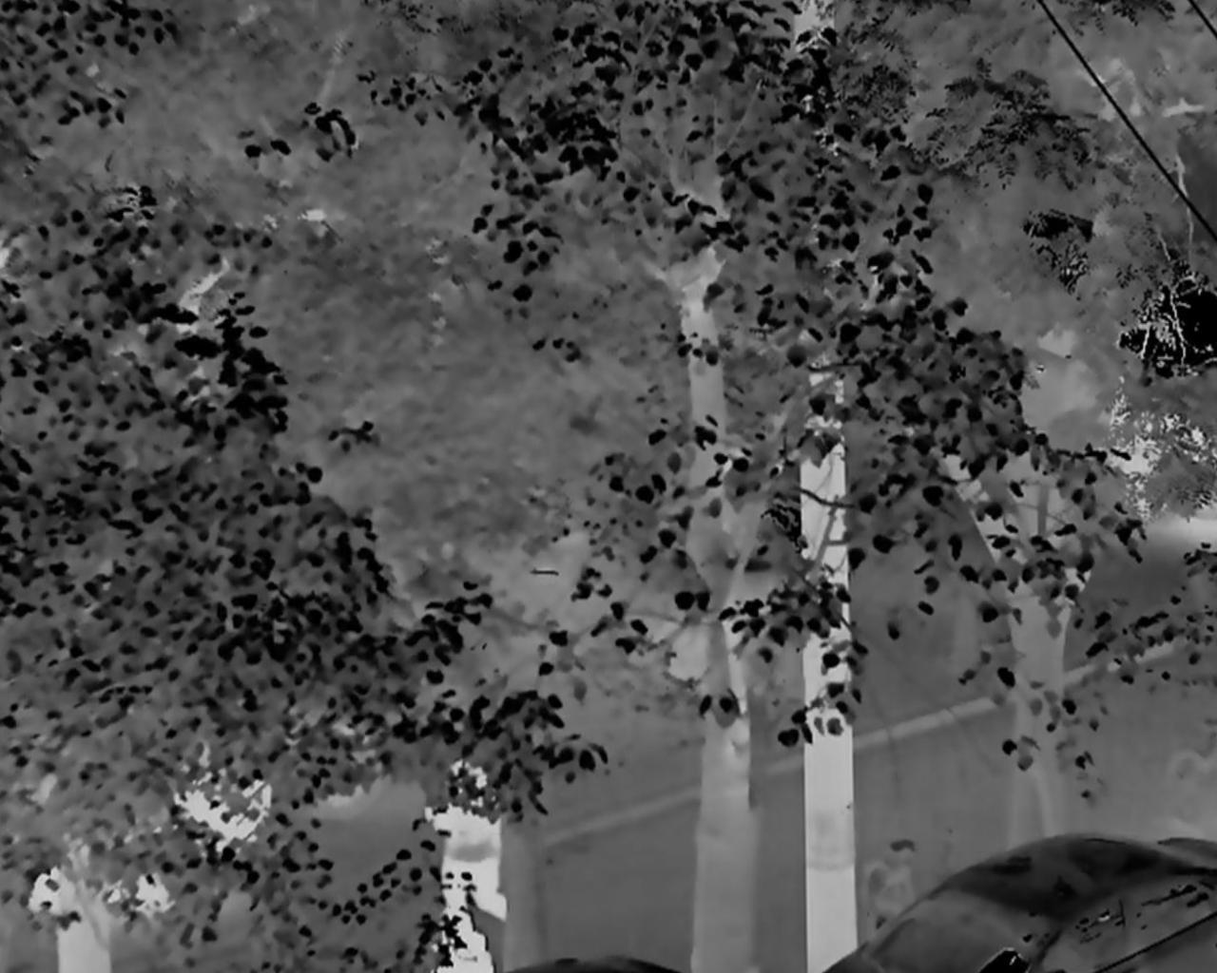person: (421, 757, 509, 973)
